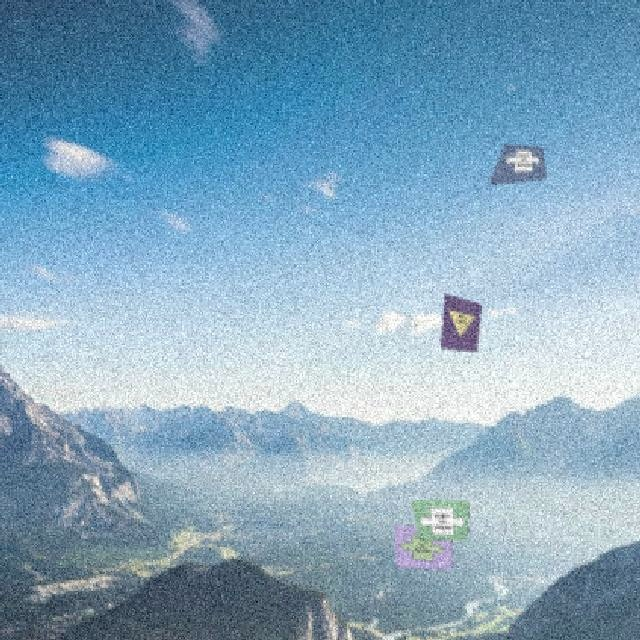DO_NOT_GO_AROUND: (416, 505, 467, 535), (500, 149, 541, 172)
GO_AROUND: (398, 532, 446, 561)
NOT_YIELD: (444, 309, 476, 339)
